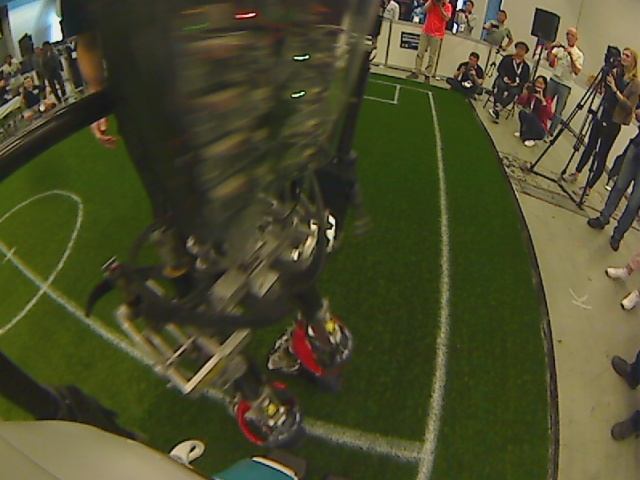robot: (1, 6, 399, 442)
